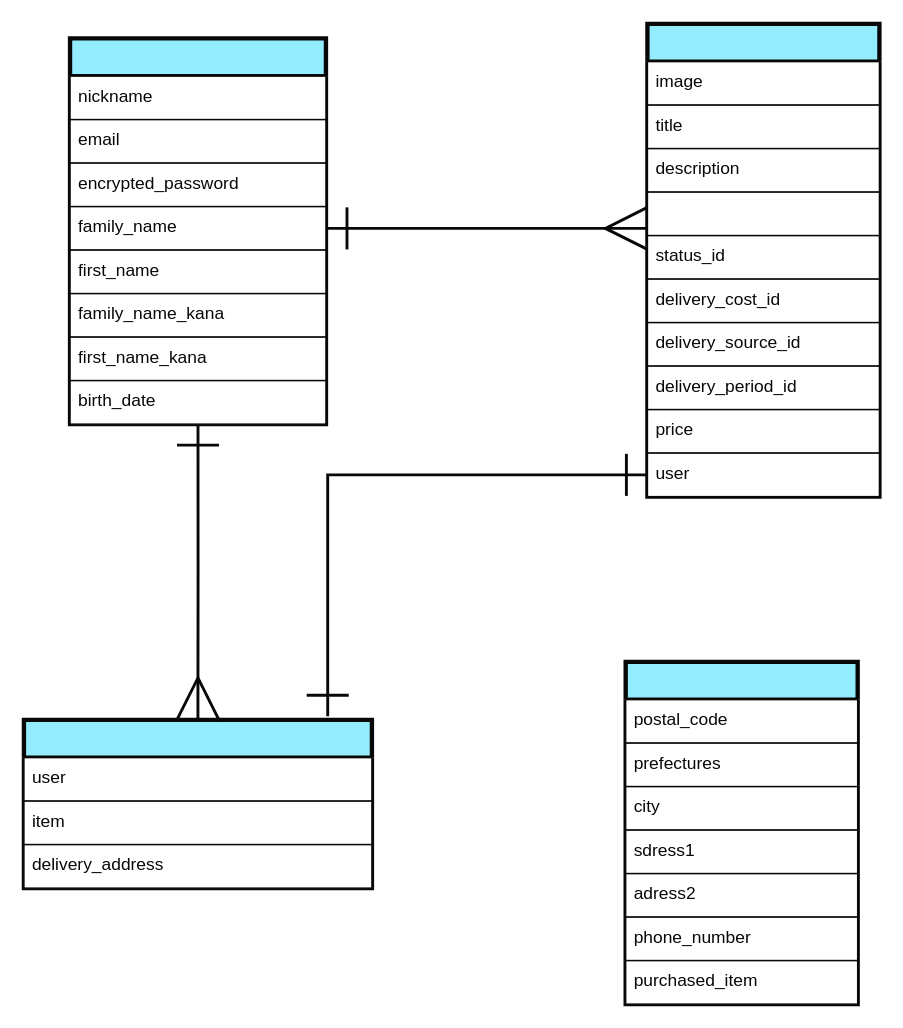
The diagram is 903 pixels wide and 1028 high, and some of its shapes have lost their labels. The box of each missing label's shape, as (x1, y1, x2, y2) in pixels:
category_id: (646, 191, 879, 236)
delivery_addresses: (623, 659, 859, 1006)
items: (645, 21, 881, 498)
purchased_items: (21, 717, 373, 890)
users: (67, 36, 327, 426)
